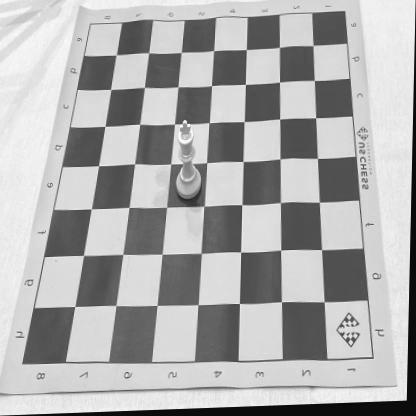white-king: (176, 121, 203, 202)
